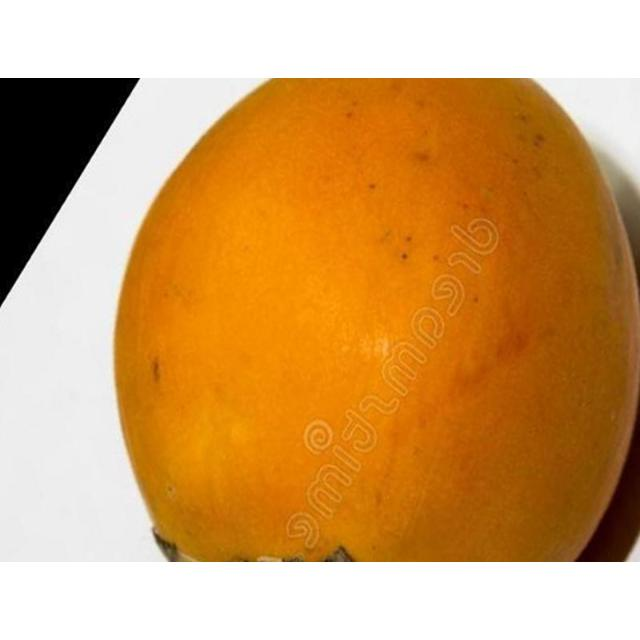good: (109, 78, 639, 561)
